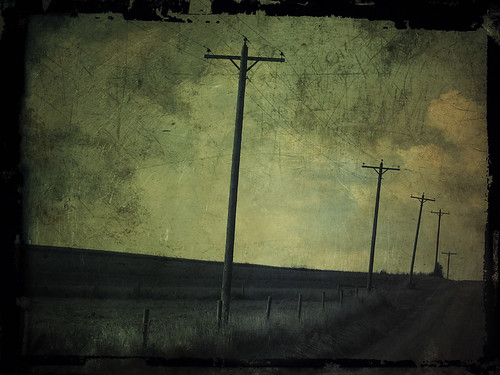sky: (30, 20, 492, 262)
